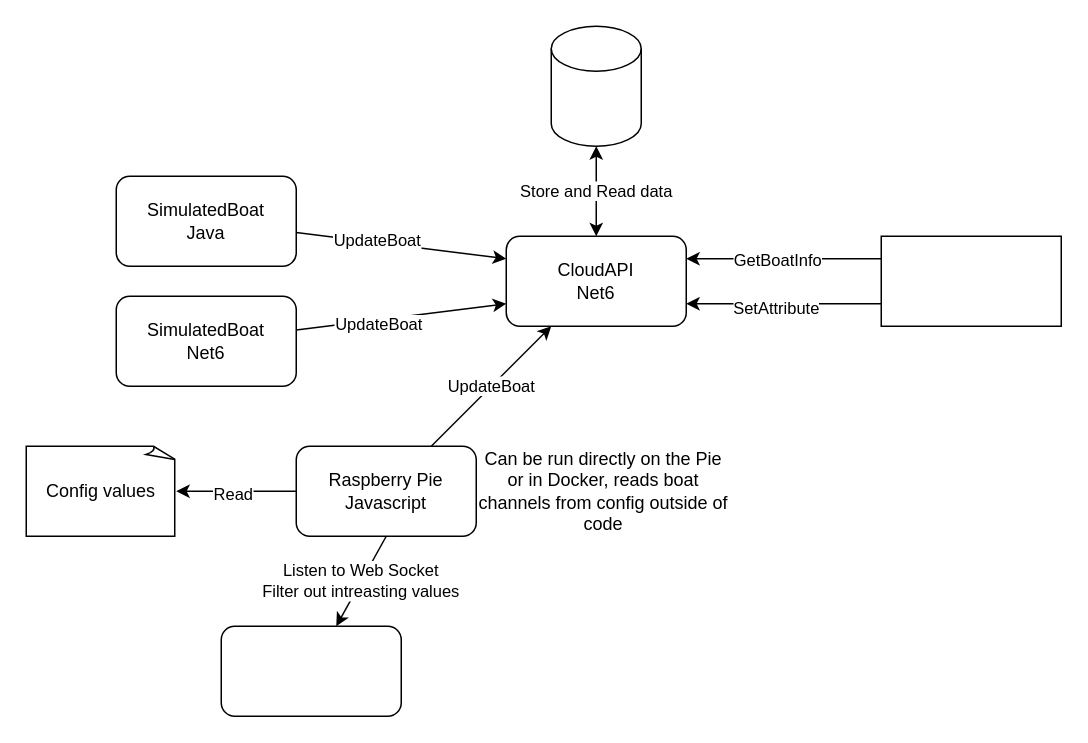
This 1088x743 diagram has some shape labels left out. Each missing label, with the box of its shape:
Db: (550, 25, 641, 146)
Monitor React: (880, 235, 1061, 326)
WDU: (220, 625, 401, 716)
